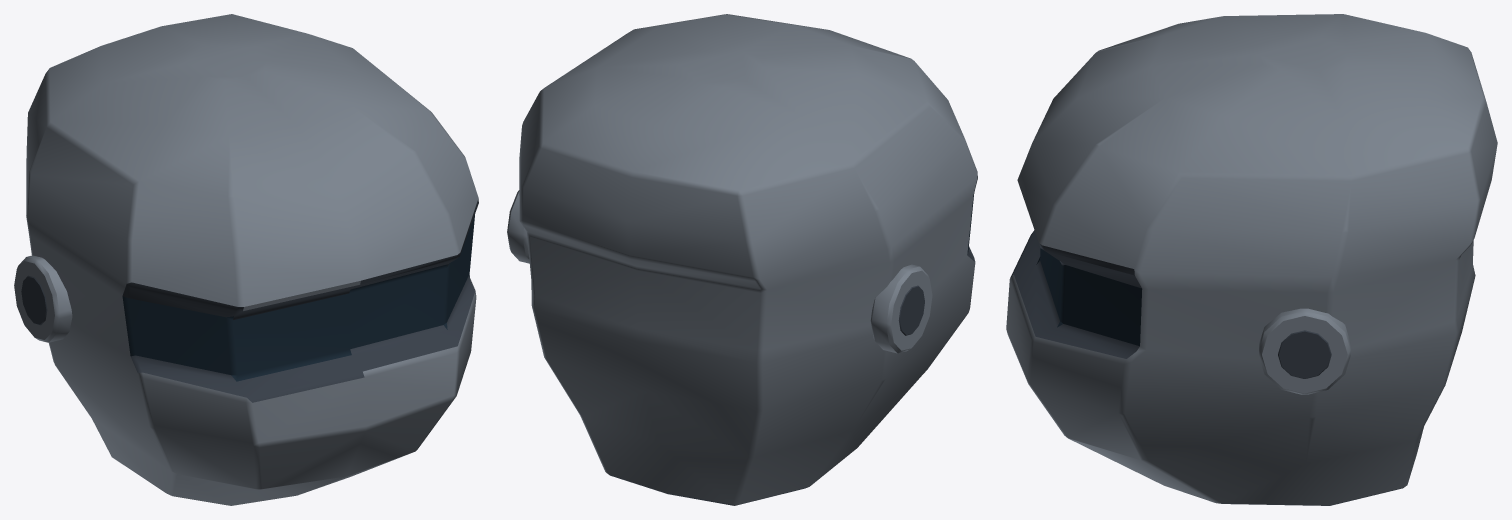
File: helmet_heavy.glb
3 views of the same model, side by side, from view 1: azimuth 30°, elevation 25°; view 2: azimuth 150°, elevation 25°; view 3: azimuth 270°, elevation 25° (orthographic). The views are drawn at different scales.
Parts seen in each view (by area): view 1: helmet_heavy; view 2: helmet_heavy; view 3: helmet_heavy.
Part boxes in pixels (box(x1,y1,x2,y2)): helmet_heavy: box(14, 14, 478, 505); helmet_heavy: box(507, 14, 977, 505); helmet_heavy: box(1006, 14, 1497, 505).
Bounding box in the file's own units: 1.04 × 1 × 1.11.
